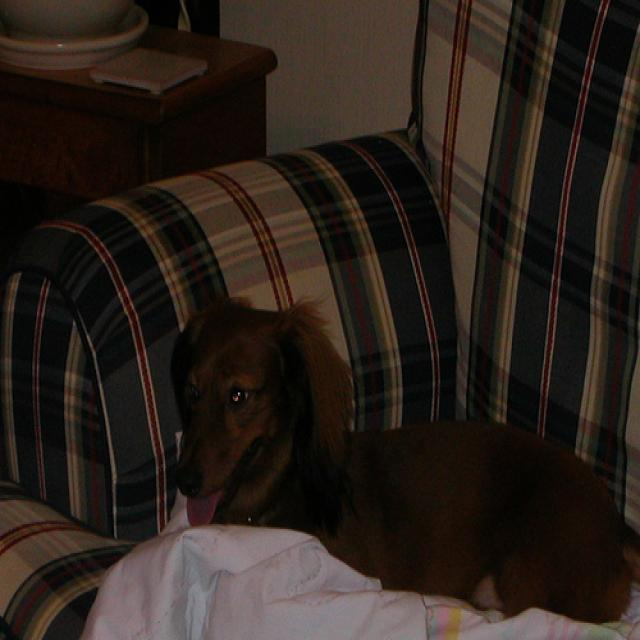Dog: (139, 268, 640, 640)
